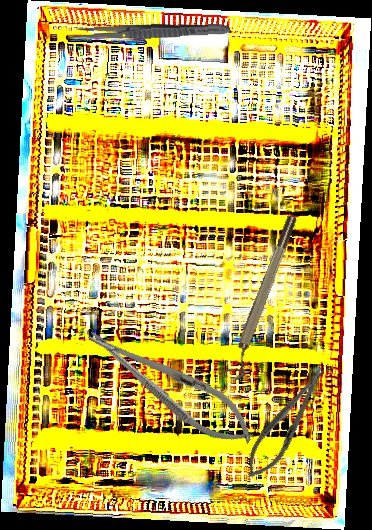Dressing Forceps: (71, 20, 231, 43)
Fixation Ring: (220, 213, 307, 384)
Needle Holder: (77, 313, 265, 459), (237, 360, 336, 486)
